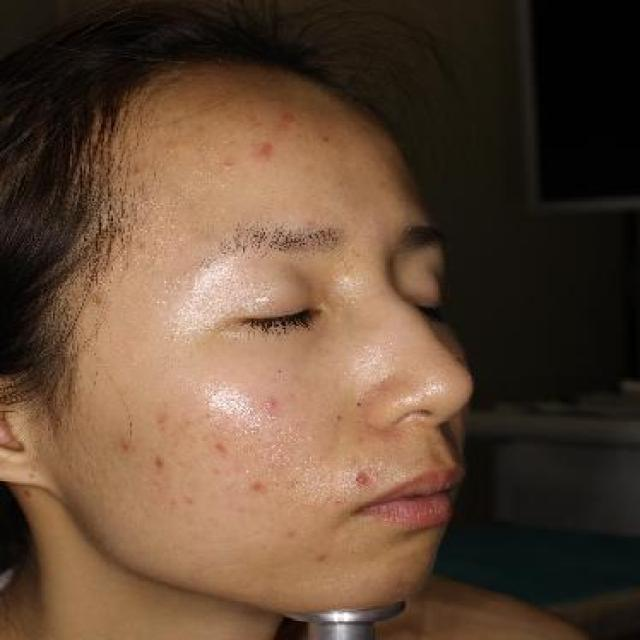blackheads: (349, 396, 373, 416)
dark spot: (250, 135, 282, 168), (243, 476, 272, 498), (262, 389, 282, 420), (207, 436, 233, 458), (150, 451, 172, 475), (115, 436, 137, 458)
papules: (278, 108, 300, 128), (351, 471, 375, 486)
